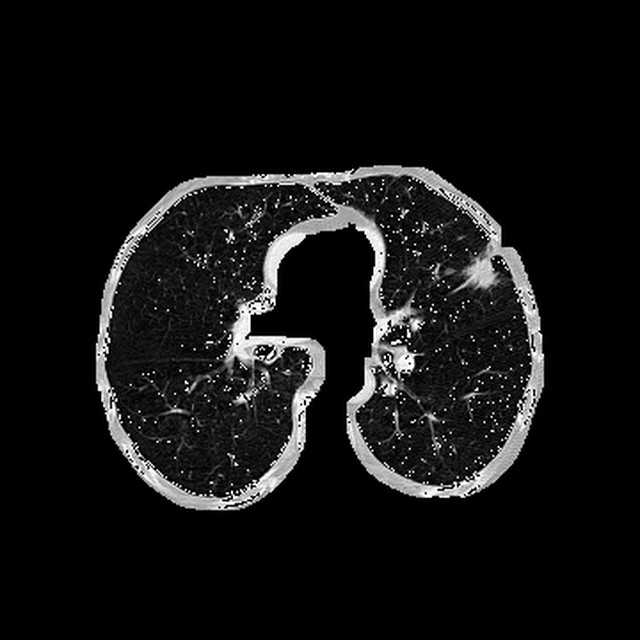PN: (468, 254, 500, 286)
